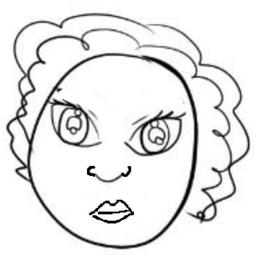cupid_mouth: (86, 197, 139, 228)
eye: (122, 107, 187, 159), (49, 101, 105, 149)
nose: (79, 163, 138, 184)
